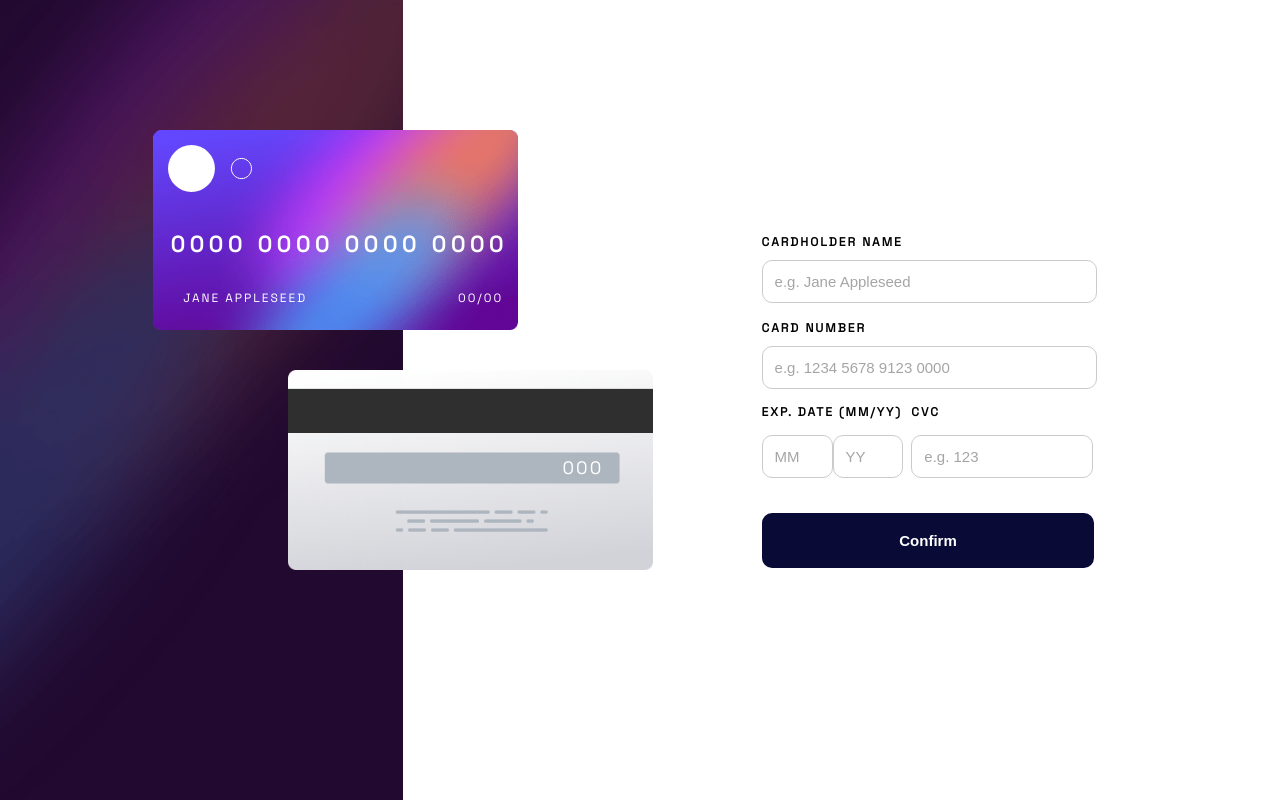
Test case: App component › Sidebar elements content change › should change username display when typing in input
The image size is (1280, 800).
Type "Jovana" into the field with placeholder "e.g. Jane Appleseed". click: [929, 282]
box: [762, 260, 1097, 303]
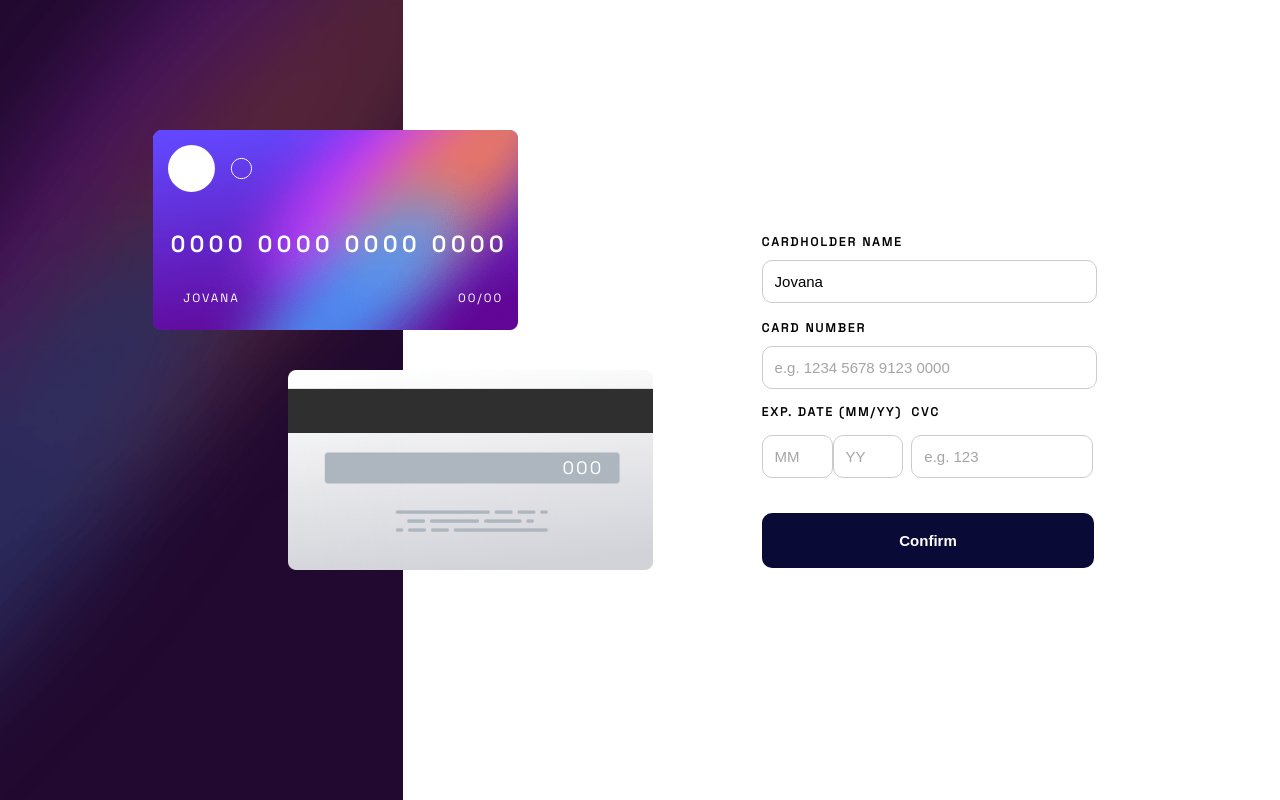
Now the text with test id "username_cont" reads "JOVANA", box [183, 290, 240, 306]
